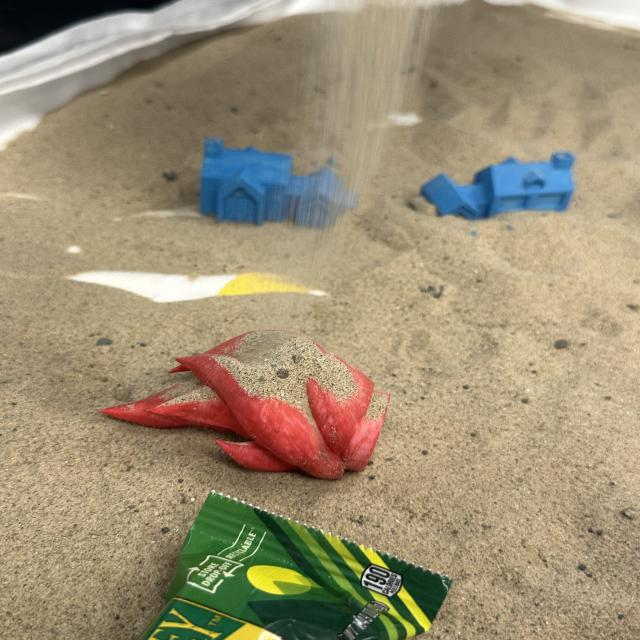fire: (97, 327, 392, 480)
house: (423, 148, 579, 244), (197, 136, 362, 226)
